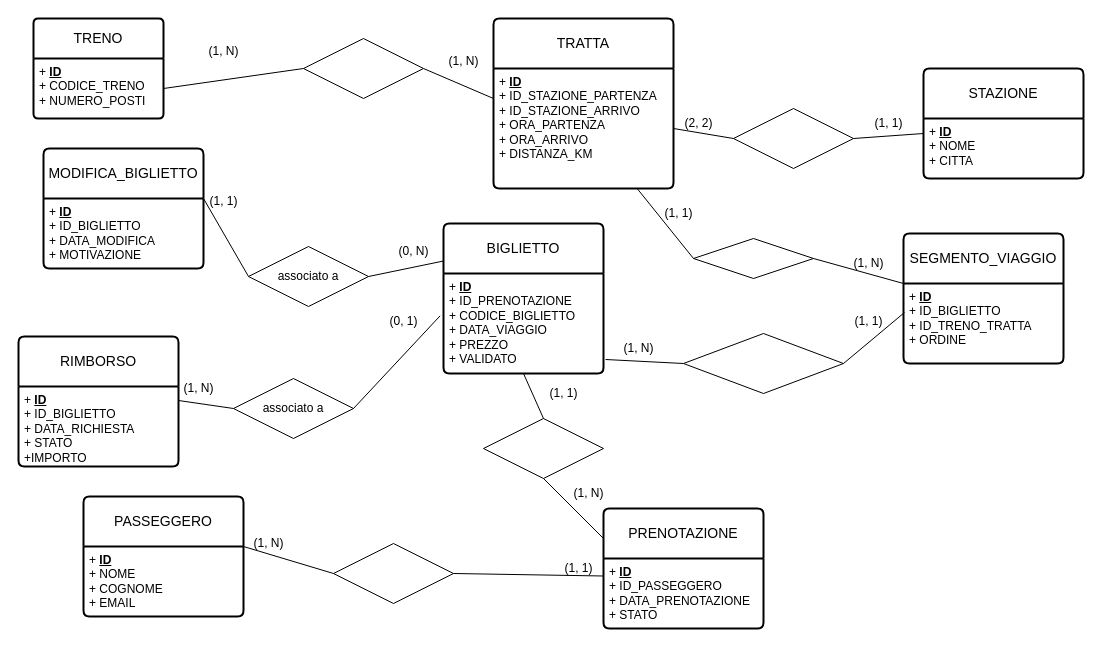
This 1101x646 diagram has some shape labels left out. The shapes that lost their labels are listed below. From the top down, each one's centre as x and y in pixels, then its label:
At [363,68]: "percorre".
At [793,138]: "collega".
At [753,258]: "puó essere".
At [763,363]: "é composta da".
At [543,448]: "include".
At [393,573]: "effettua".
